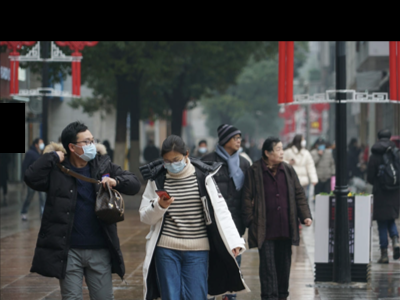with_mask: (76, 135, 99, 162), (163, 154, 187, 174), (37, 141, 46, 153)
without_mask: (271, 144, 285, 162), (229, 134, 243, 149)
